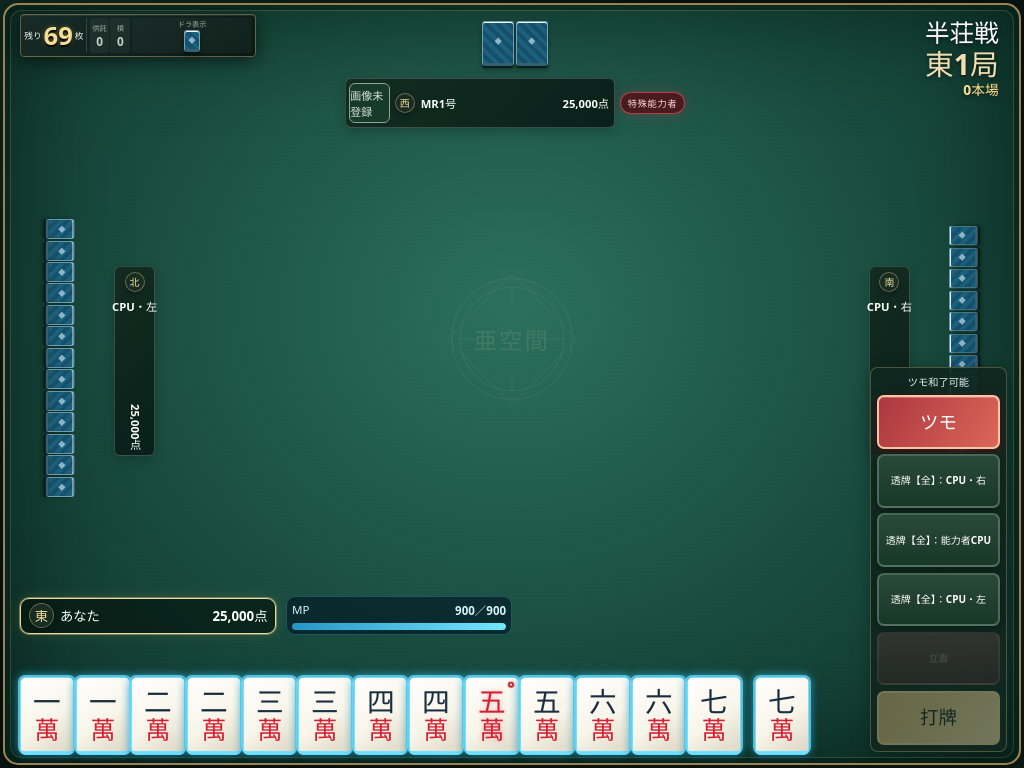
Test: プレイヤースキル3-12の画面操作 › 指定相手の保存手牌だけをすべて表示する
Expected: the number of pictures named "裏向きの牌" is 2, [482,20,514,66]; [516,20,548,66]
Click the button "透牌【全】：能力者CPU".
click(938, 540)  # box [877,513,1000,567]
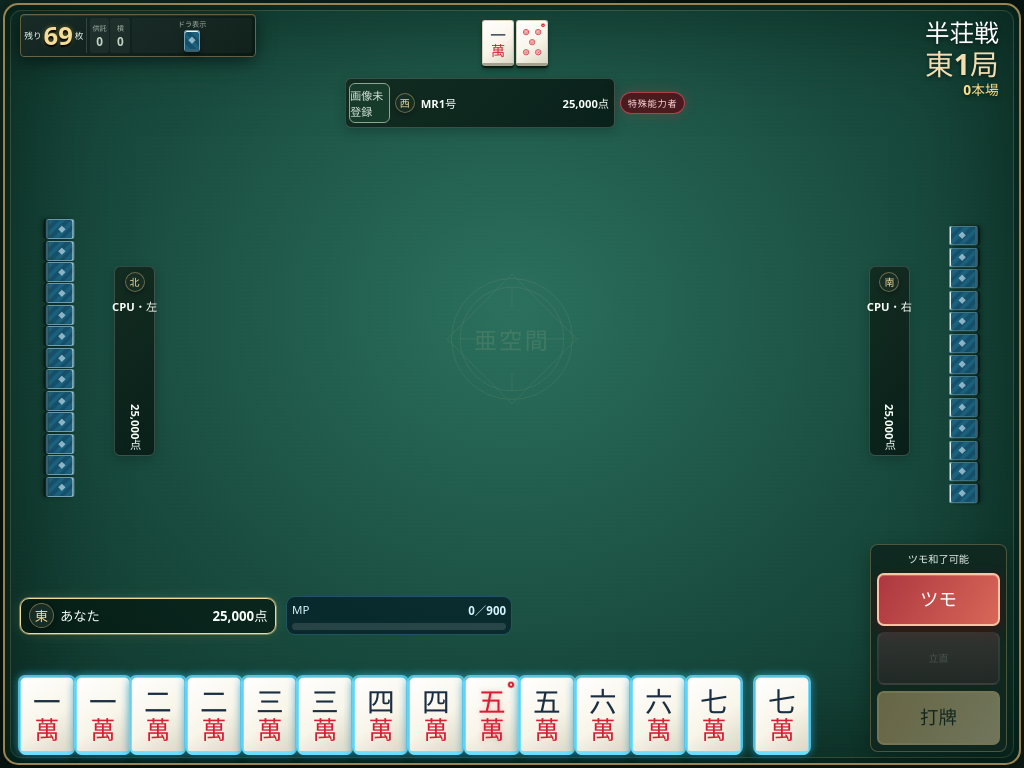
Expected: the picture named "一萬" is shown, [482,20,514,66]
Expected: the picture named "赤五筒" is shown, [516,20,548,66]
Expected: no buttons "透牌【全】" are shown
